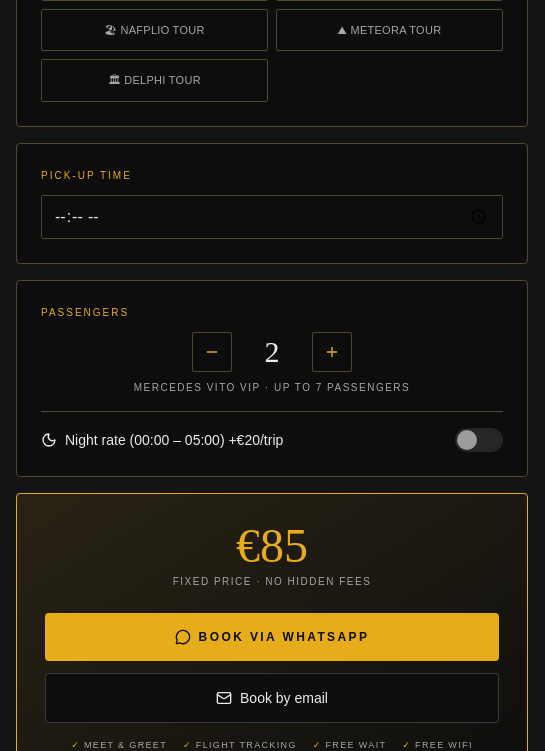
Test: unchanged calculator fares and customer-initiated email drafts › keeps Athens airport fares at €85 for 1–4 and €100 for 5–7 passengers
Later steps or results of the test are not shown.
(page scrolled)
expect the text "€85" is shown: met, box [236, 518, 308, 572]
Click the button named "Increase passengers": (332, 352) [312, 332, 352, 372]
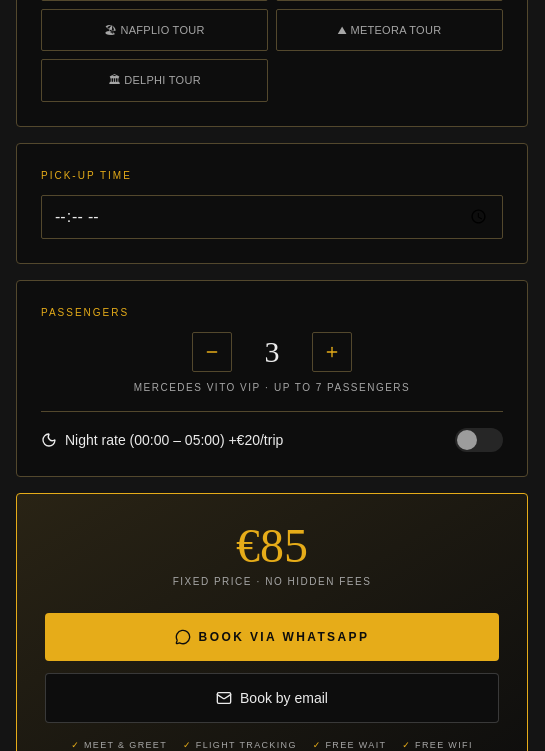
Click the button named "Increase passengers": (332, 352) [312, 332, 352, 372]
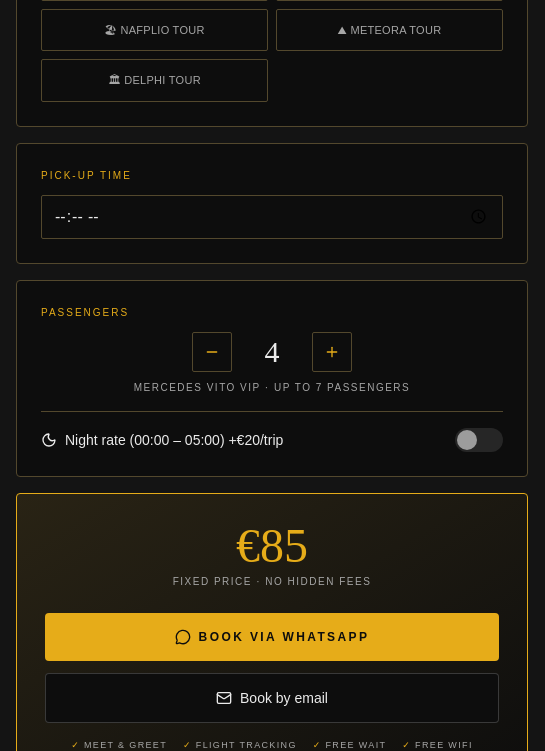
expect the text "€85" is shown: met, box [236, 518, 308, 572]
Click the button named "Increase passengers": (332, 352) [312, 332, 352, 372]
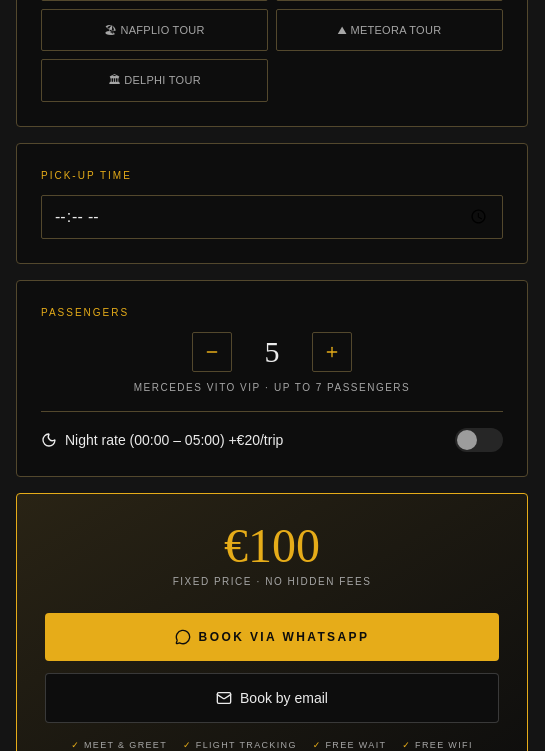
expect the text "€100" is shown: met, box [224, 518, 320, 572]
